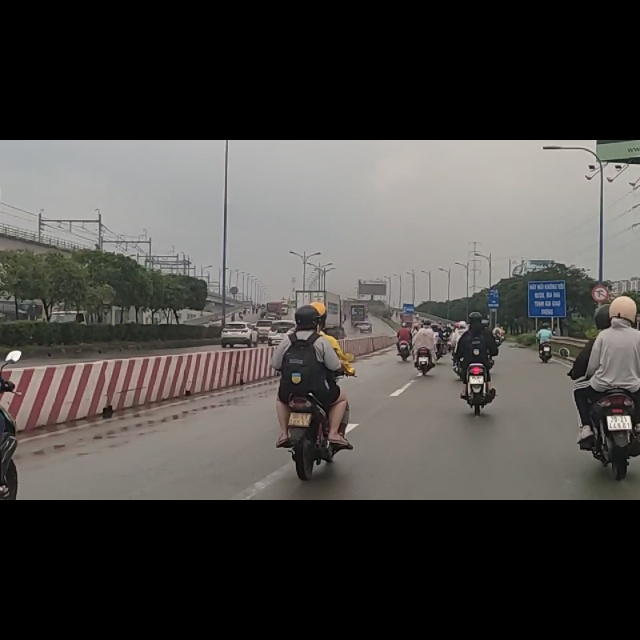bien_cam: (593, 256, 608, 287)
